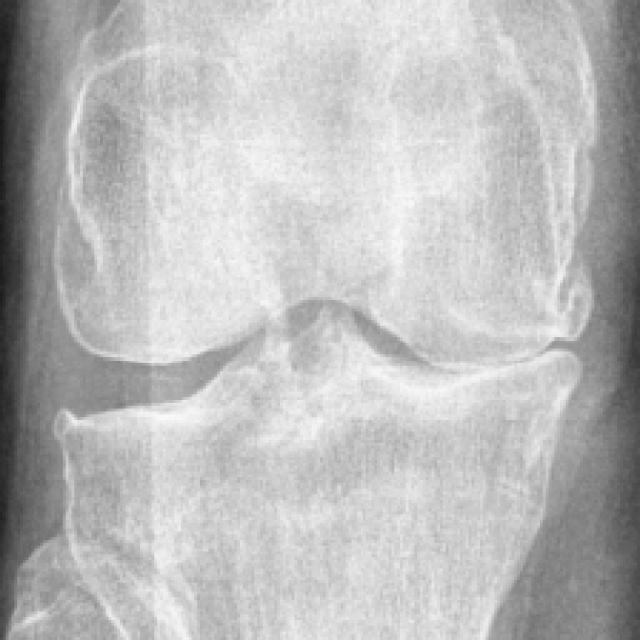femur: (52, 0, 598, 374)
tibia: (53, 310, 584, 639)
